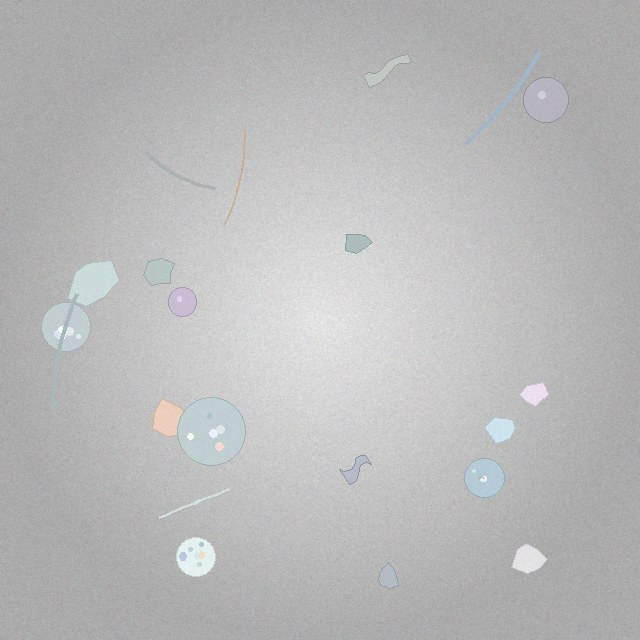fiber: (461, 47, 544, 149), (48, 290, 81, 415), (141, 147, 220, 193), (156, 486, 233, 521), (221, 128, 247, 228)
film: (363, 55, 412, 88), (340, 455, 372, 485)
foam: (178, 397, 245, 465), (42, 303, 91, 352), (465, 458, 504, 498), (176, 537, 215, 577)
fragment: (68, 261, 119, 306), (153, 398, 191, 437), (512, 544, 547, 573), (143, 258, 175, 285), (485, 417, 516, 443), (519, 383, 548, 406), (345, 234, 373, 254), (378, 563, 399, 588)
pellet: (524, 77, 569, 122), (168, 288, 197, 316)
